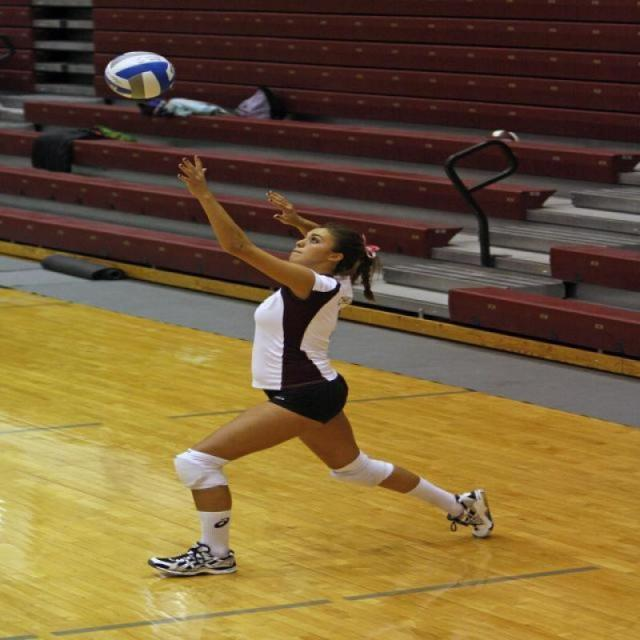volleyball: (104, 51, 174, 99)
